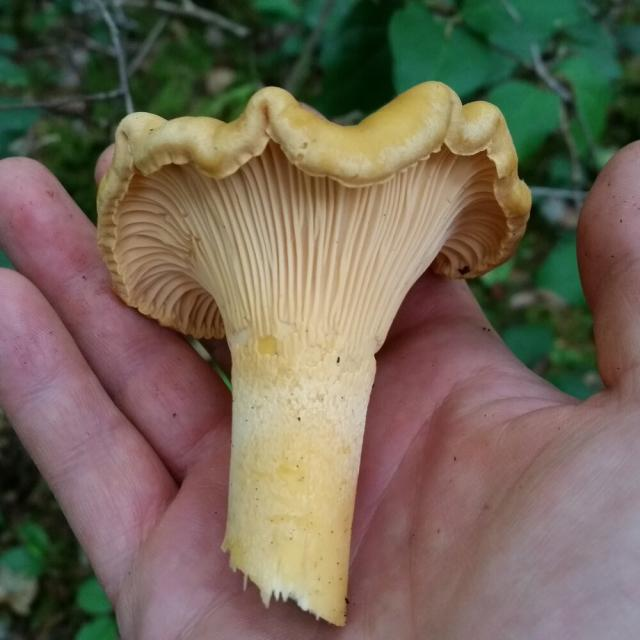chanterelle: (95, 77, 536, 626)
